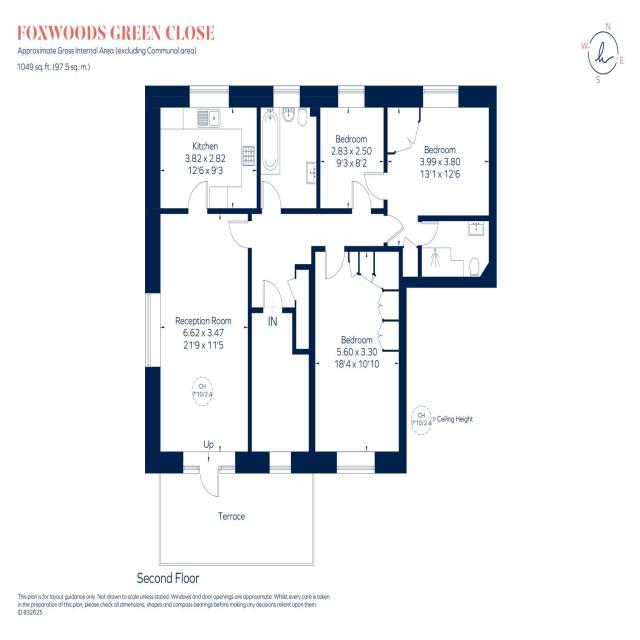DOOR: (324, 245, 346, 280), (363, 171, 388, 201), (228, 219, 252, 250), (351, 180, 372, 215), (261, 179, 282, 214), (187, 180, 208, 214), (262, 279, 283, 313), (383, 214, 405, 244), (417, 221, 439, 246)
ROOM: (145, 178, 253, 498), (364, 85, 497, 288), (309, 246, 407, 474), (145, 85, 261, 214), (316, 85, 388, 215)
WINDOW: (144, 292, 161, 369), (336, 450, 376, 475), (189, 85, 230, 109), (422, 85, 459, 108), (337, 85, 366, 109), (272, 85, 301, 109), (269, 451, 292, 475)
